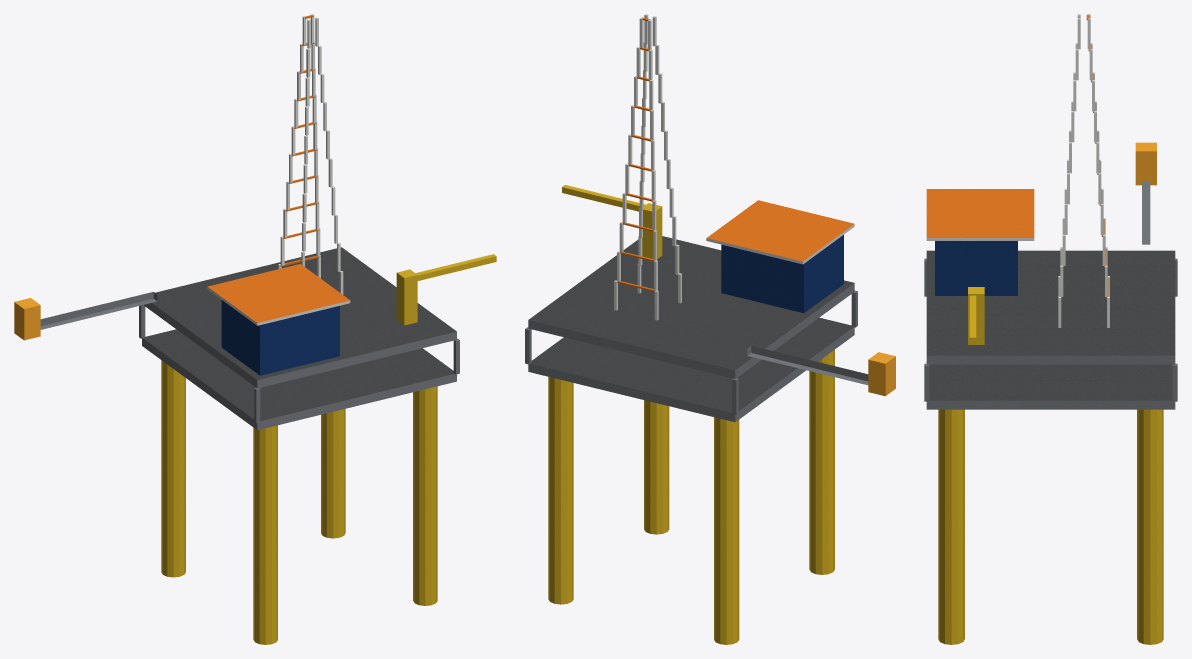
File: oil_rig.glb
The picture shows the model from 3 angles, left to right: view 1: azimuth 30°, elevation 25°; view 2: azimuth 150°, elevation 25°; view 3: azimuth 270°, elevation 25°; orthographic projection. The views are drawn at different scales.
Parts seen in each view (by area): view 1: oil_rig; view 2: oil_rig; view 3: oil_rig.
Part boxes in pixels (bbox=[...]): oil_rig: bbox=[14, 14, 496, 644]; oil_rig: bbox=[525, 14, 895, 644]; oil_rig: bbox=[924, 14, 1177, 644].
Size of the model in its own units: 59.5 by 79.2 by 30.6.
Materials: 7 (7 with a texture image).
